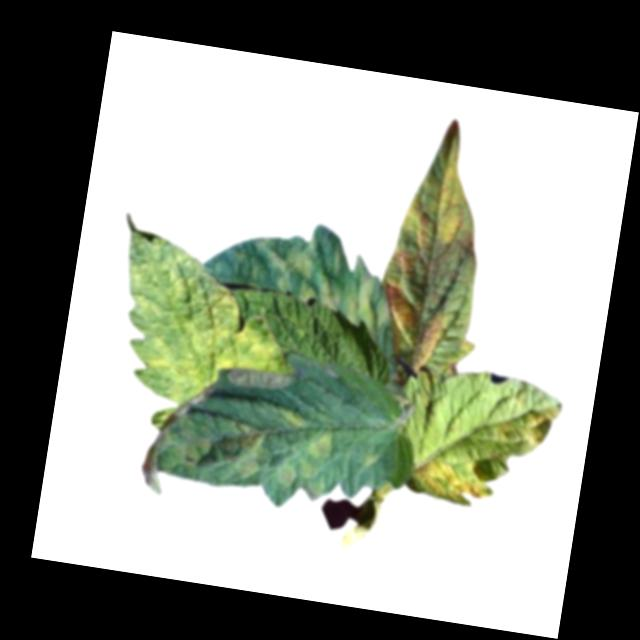Leaf_Mold: (371, 112, 507, 380), (105, 227, 288, 408), (408, 382, 577, 520), (143, 389, 344, 505), (260, 236, 392, 331)
